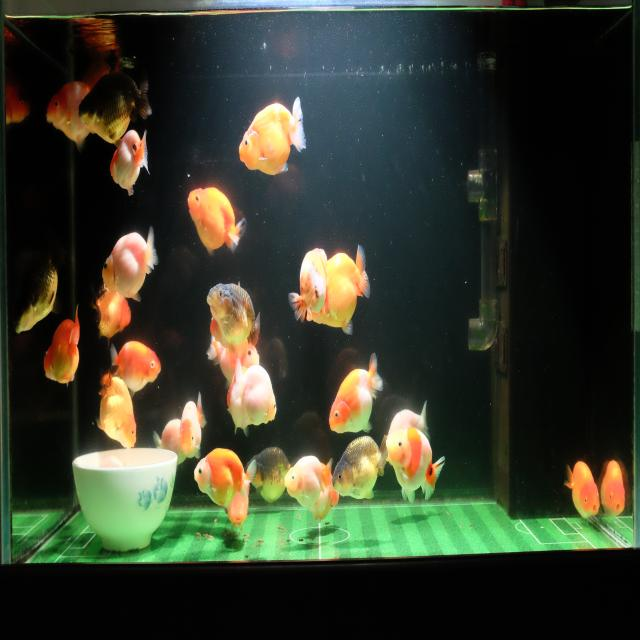Tilapia: (306, 244, 372, 339), (237, 93, 309, 179), (76, 67, 154, 145), (44, 67, 108, 149), (384, 427, 446, 508), (327, 352, 385, 434), (101, 226, 159, 305), (11, 243, 60, 336), (187, 185, 247, 258), (192, 443, 257, 508), (330, 432, 389, 501), (206, 281, 260, 353), (92, 367, 137, 450), (41, 301, 83, 388), (287, 244, 329, 329), (244, 444, 298, 506), (207, 327, 260, 386), (108, 124, 150, 198), (233, 358, 278, 426), (108, 340, 162, 396), (283, 451, 332, 508), (564, 454, 600, 524), (88, 282, 132, 339), (178, 393, 208, 463), (310, 461, 341, 528), (153, 412, 188, 467), (600, 457, 626, 521), (224, 363, 248, 428), (228, 476, 252, 530)
